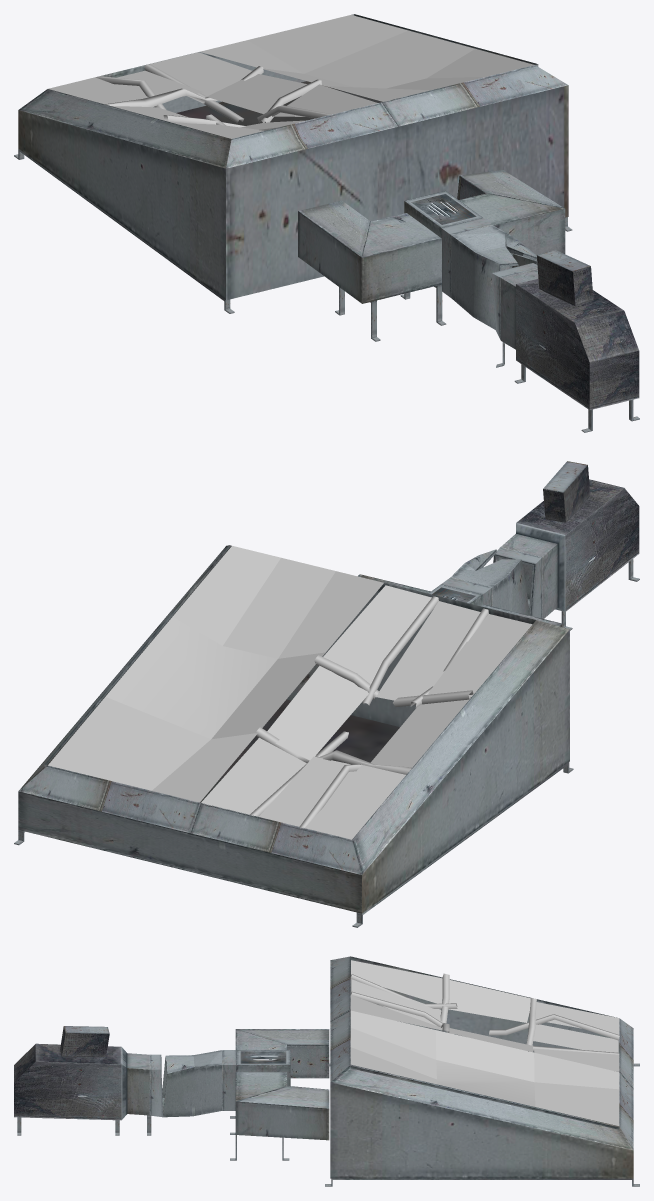
The model's file is Air_vent_hub.fbx.
The picture shows the model from 3 angles, top to bottom: view 1: azimuth 30°, elevation 25°; view 2: azimuth 150°, elevation 25°; view 3: azimuth 270°, elevation 25°; orthographic projection. The views are drawn at different scales.
Visible parts, largest first — view 1: Air_vent_hub; view 2: Air_vent_hub; view 3: Air_vent_hub.
Part boxes in pixels (x1,y1,x2,y2): Air_vent_hub: (14, 14, 639, 432); Air_vent_hub: (14, 461, 639, 927); Air_vent_hub: (14, 956, 639, 1186).
Size of the model in its own units: 494 by 218 by 1070.
